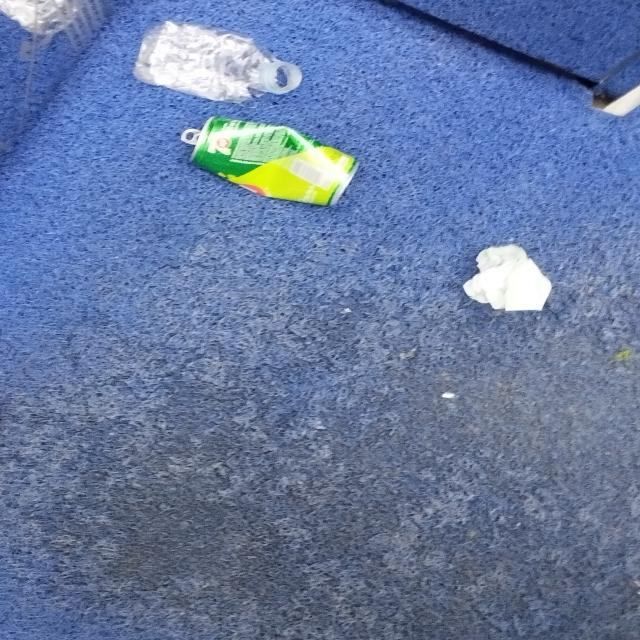aluminum: (185, 114, 361, 211)
paper: (461, 244, 556, 315)
plastic: (134, 20, 305, 104)
